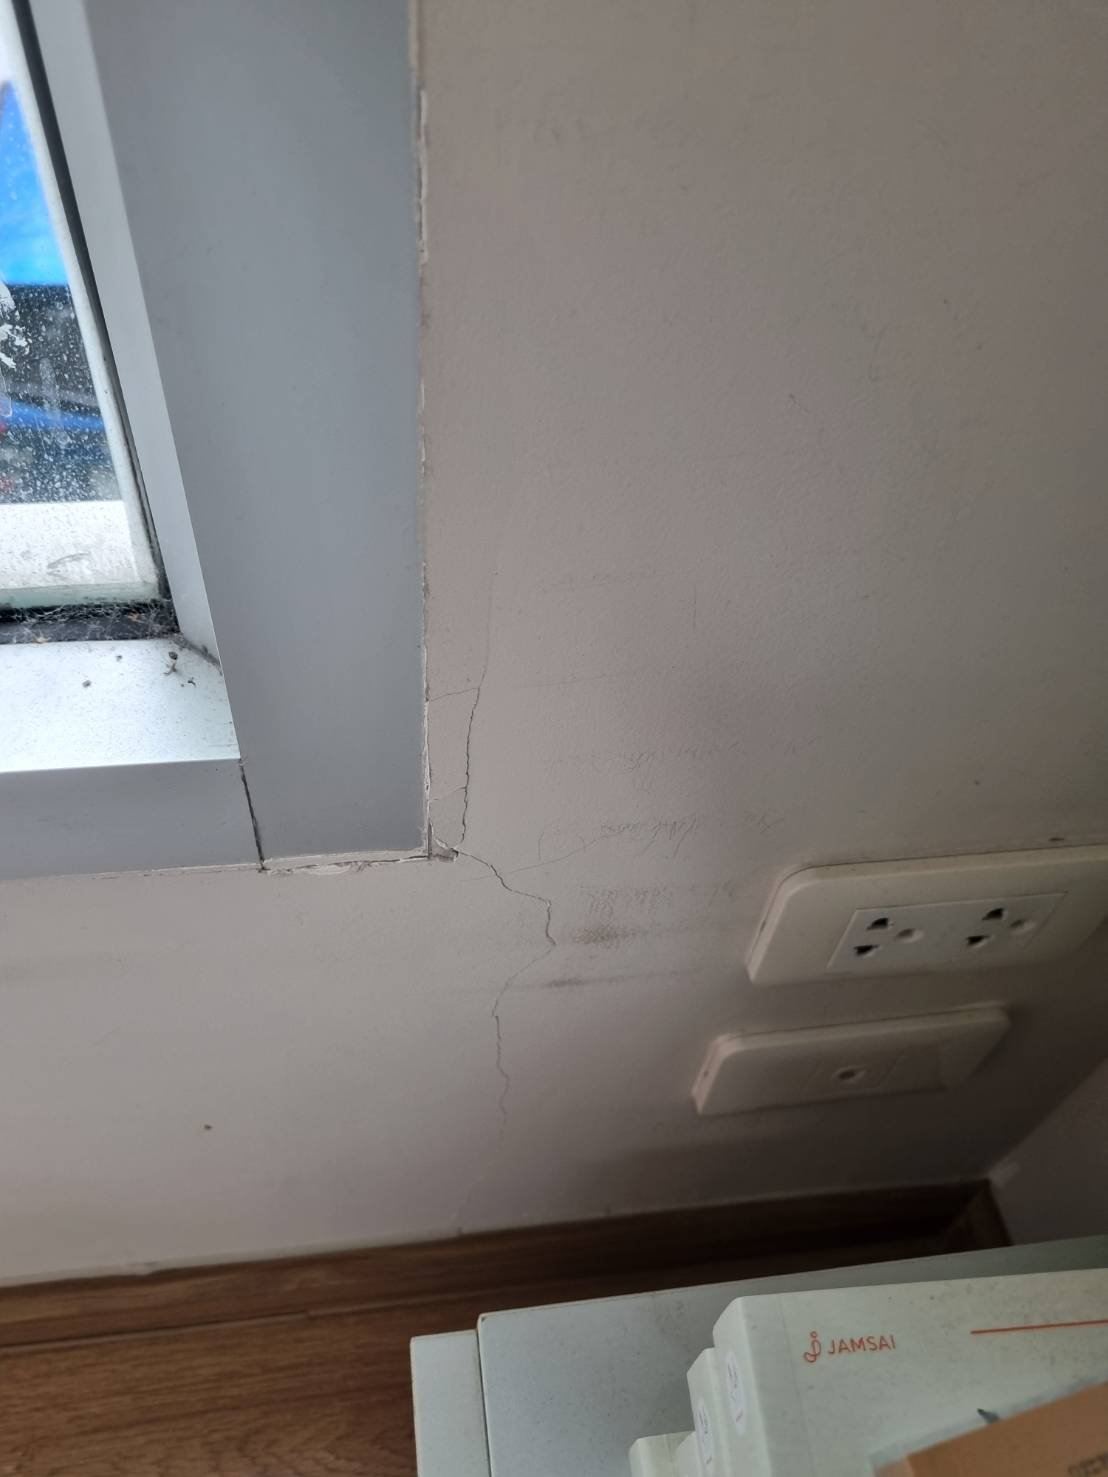Low: (385, 582, 677, 1272)
